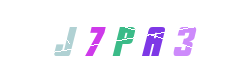3: (134, 0, 214, 80)
7: (76, 0, 156, 80)
A: (93, 0, 173, 80)
J: (30, 0, 110, 80)
P: (83, 0, 163, 80)
